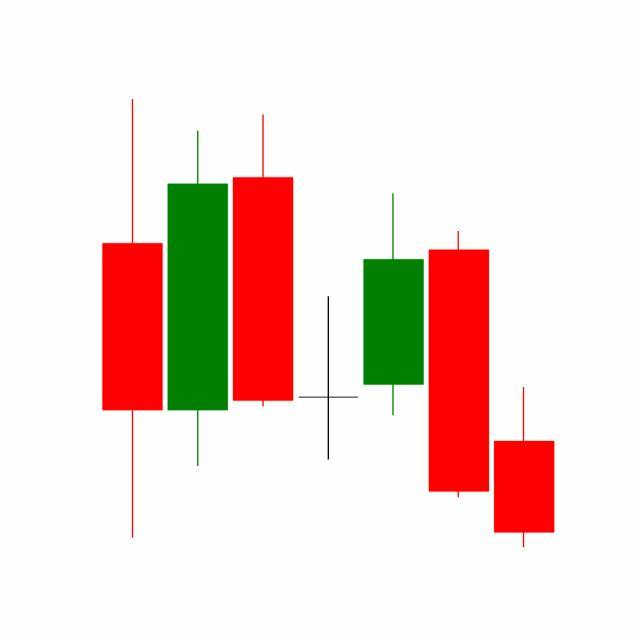Hikkake Pattern: (165, 111, 492, 502)
